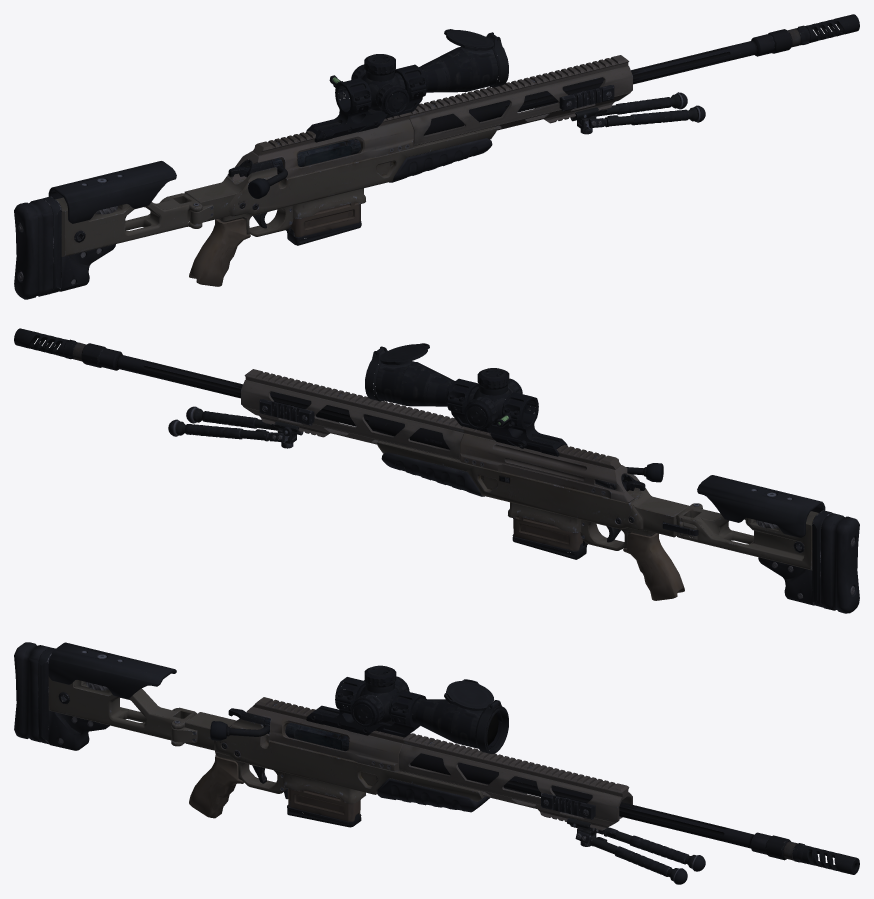
The model's file is hero-rifle.glb.
3 views of the same model, one above another, from view 1: azimuth 30°, elevation 25°; view 2: azimuth 150°, elevation 25°; view 3: azimuth 330°, elevation 25° (orthographic).
Parts seen in each view (by area): view 1: Rifle_Stock, Rifle_Receiver, Rifle_Barrel, Rifle_Scope, Rifle_Bipod, Rifle_Bolt, Rifle_Magazine, Rifle_MuzzleBrake; view 2: Rifle_Receiver, Rifle_Stock, Rifle_Barrel, Rifle_Scope, Rifle_Bipod, Rifle_Magazine, Rifle_MuzzleBrake, Rifle_Bolt; view 3: Rifle_Stock, Rifle_Receiver, Rifle_Barrel, Rifle_Scope, Rifle_Bipod, Rifle_Bolt, Rifle_Magazine, Rifle_MuzzleBrake.
Boxes of the visible parts, bbox=[...] form: Rifle_Stock: bbox=[14, 161, 250, 299]; Rifle_Receiver: bbox=[184, 112, 497, 236]; Rifle_Barrel: bbox=[409, 34, 774, 145]; Rifle_Scope: bbox=[306, 29, 508, 142]; Rifle_Bipod: bbox=[570, 92, 705, 134]; Rifle_Bolt: bbox=[228, 138, 360, 198]; Rifle_Magazine: bbox=[287, 202, 361, 245]; Rifle_MuzzleBrake: bbox=[768, 14, 859, 53]; Rifle_Receiver: bbox=[376, 426, 688, 550]; Rifle_Stock: bbox=[623, 475, 859, 613]; Rifle_Barrel: bbox=[99, 348, 464, 460]; Rifle_Scope: bbox=[365, 343, 567, 456]; Rifle_Bipod: bbox=[168, 406, 303, 448]; Rifle_Magazine: bbox=[512, 516, 586, 559]; Rifle_MuzzleBrake: bbox=[14, 328, 105, 367]; Rifle_Bolt: bbox=[512, 450, 663, 491]; Rifle_Stock: bbox=[14, 642, 243, 818]; Rifle_Receiver: bbox=[184, 697, 489, 812]; Rifle_Barrel: bbox=[399, 733, 771, 854]; Rifle_Scope: bbox=[306, 665, 508, 753]; Rifle_Bipod: bbox=[567, 818, 705, 884]; Rifle_Bolt: bbox=[210, 708, 348, 751]; Rifle_Magazine: bbox=[287, 789, 361, 827]; Rifle_MuzzleBrake: bbox=[765, 835, 859, 874].
Size of the model in its own units: 1.16 by 0.25 by 0.1125.
Materials: 14 (14 with a texture image).
